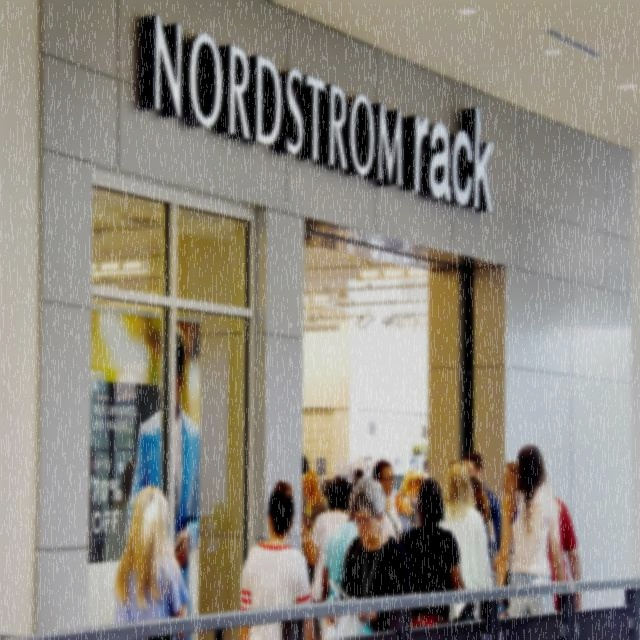pessoa: (120, 322, 208, 640), (326, 474, 411, 639), (234, 476, 316, 640), (110, 480, 193, 640), (495, 444, 567, 618), (435, 458, 494, 624), (398, 478, 466, 621), (301, 474, 354, 638), (458, 446, 506, 573), (548, 494, 583, 612), (370, 457, 404, 547), (372, 458, 404, 540), (300, 467, 328, 532), (394, 468, 425, 524), (500, 458, 522, 500), (344, 462, 368, 496)
